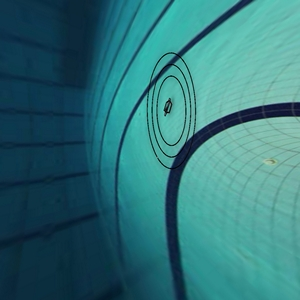circle: (134, 46, 227, 185)
submarine: (161, 96, 181, 121)
